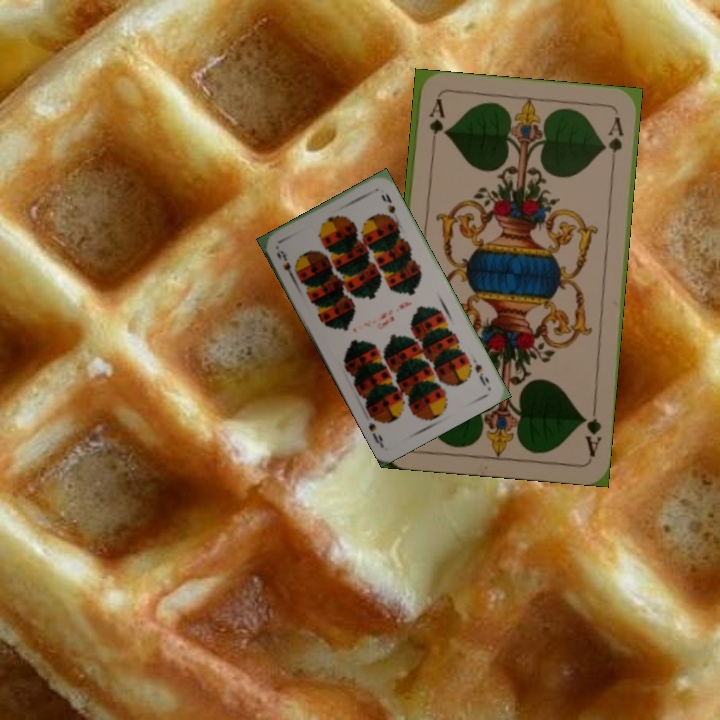GA: (578, 400, 604, 459), (425, 95, 446, 154)
S9: (272, 247, 297, 282), (470, 360, 492, 389)
